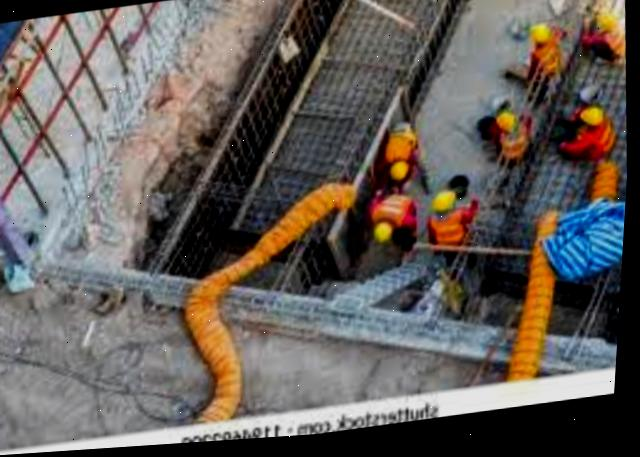helmet: (490, 107, 520, 138), (575, 107, 607, 131), (387, 162, 413, 188), (433, 191, 458, 218), (526, 29, 554, 52), (370, 229, 396, 250), (595, 15, 616, 38)
vest: (373, 126, 430, 164), (430, 216, 465, 263), (494, 132, 533, 170), (585, 124, 625, 161), (375, 196, 416, 229), (529, 51, 561, 85), (599, 38, 627, 69)
